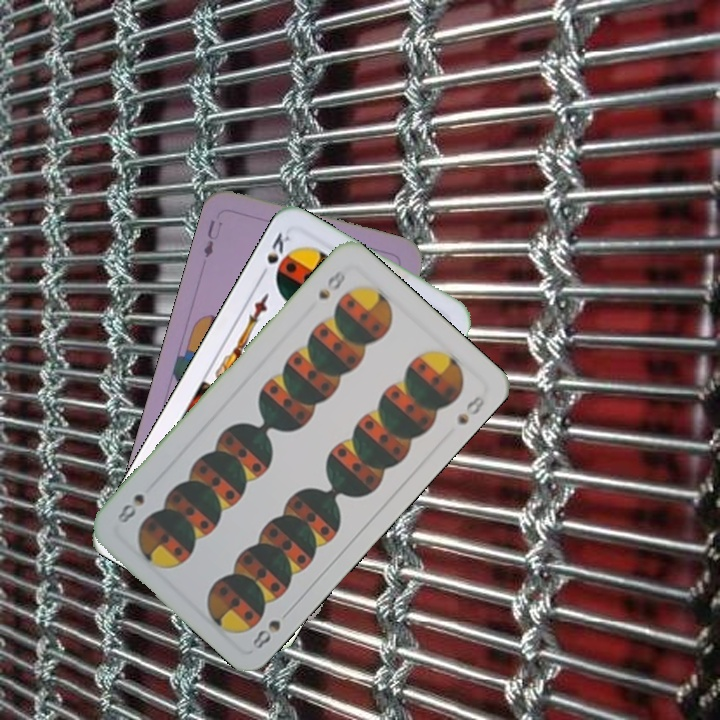EU: (199, 215, 221, 260)
S8: (248, 604, 295, 652), (314, 266, 349, 302)
SK: (255, 228, 293, 282)
